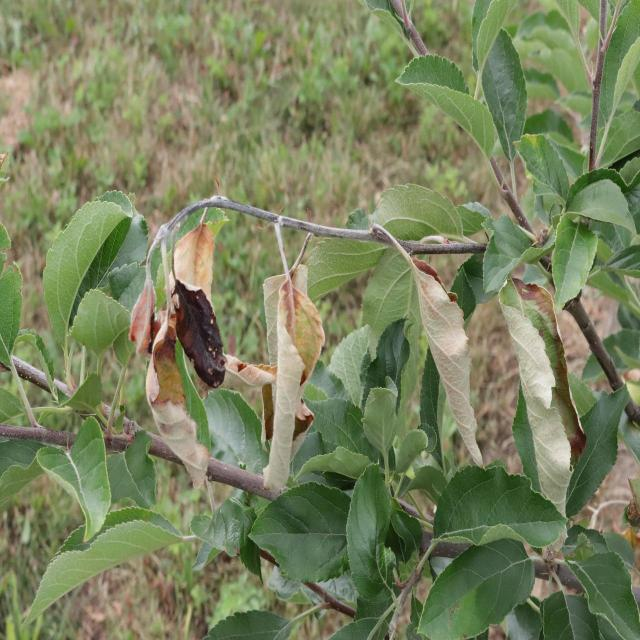-FireBlight-: (142, 221, 245, 510), (260, 209, 320, 480)
